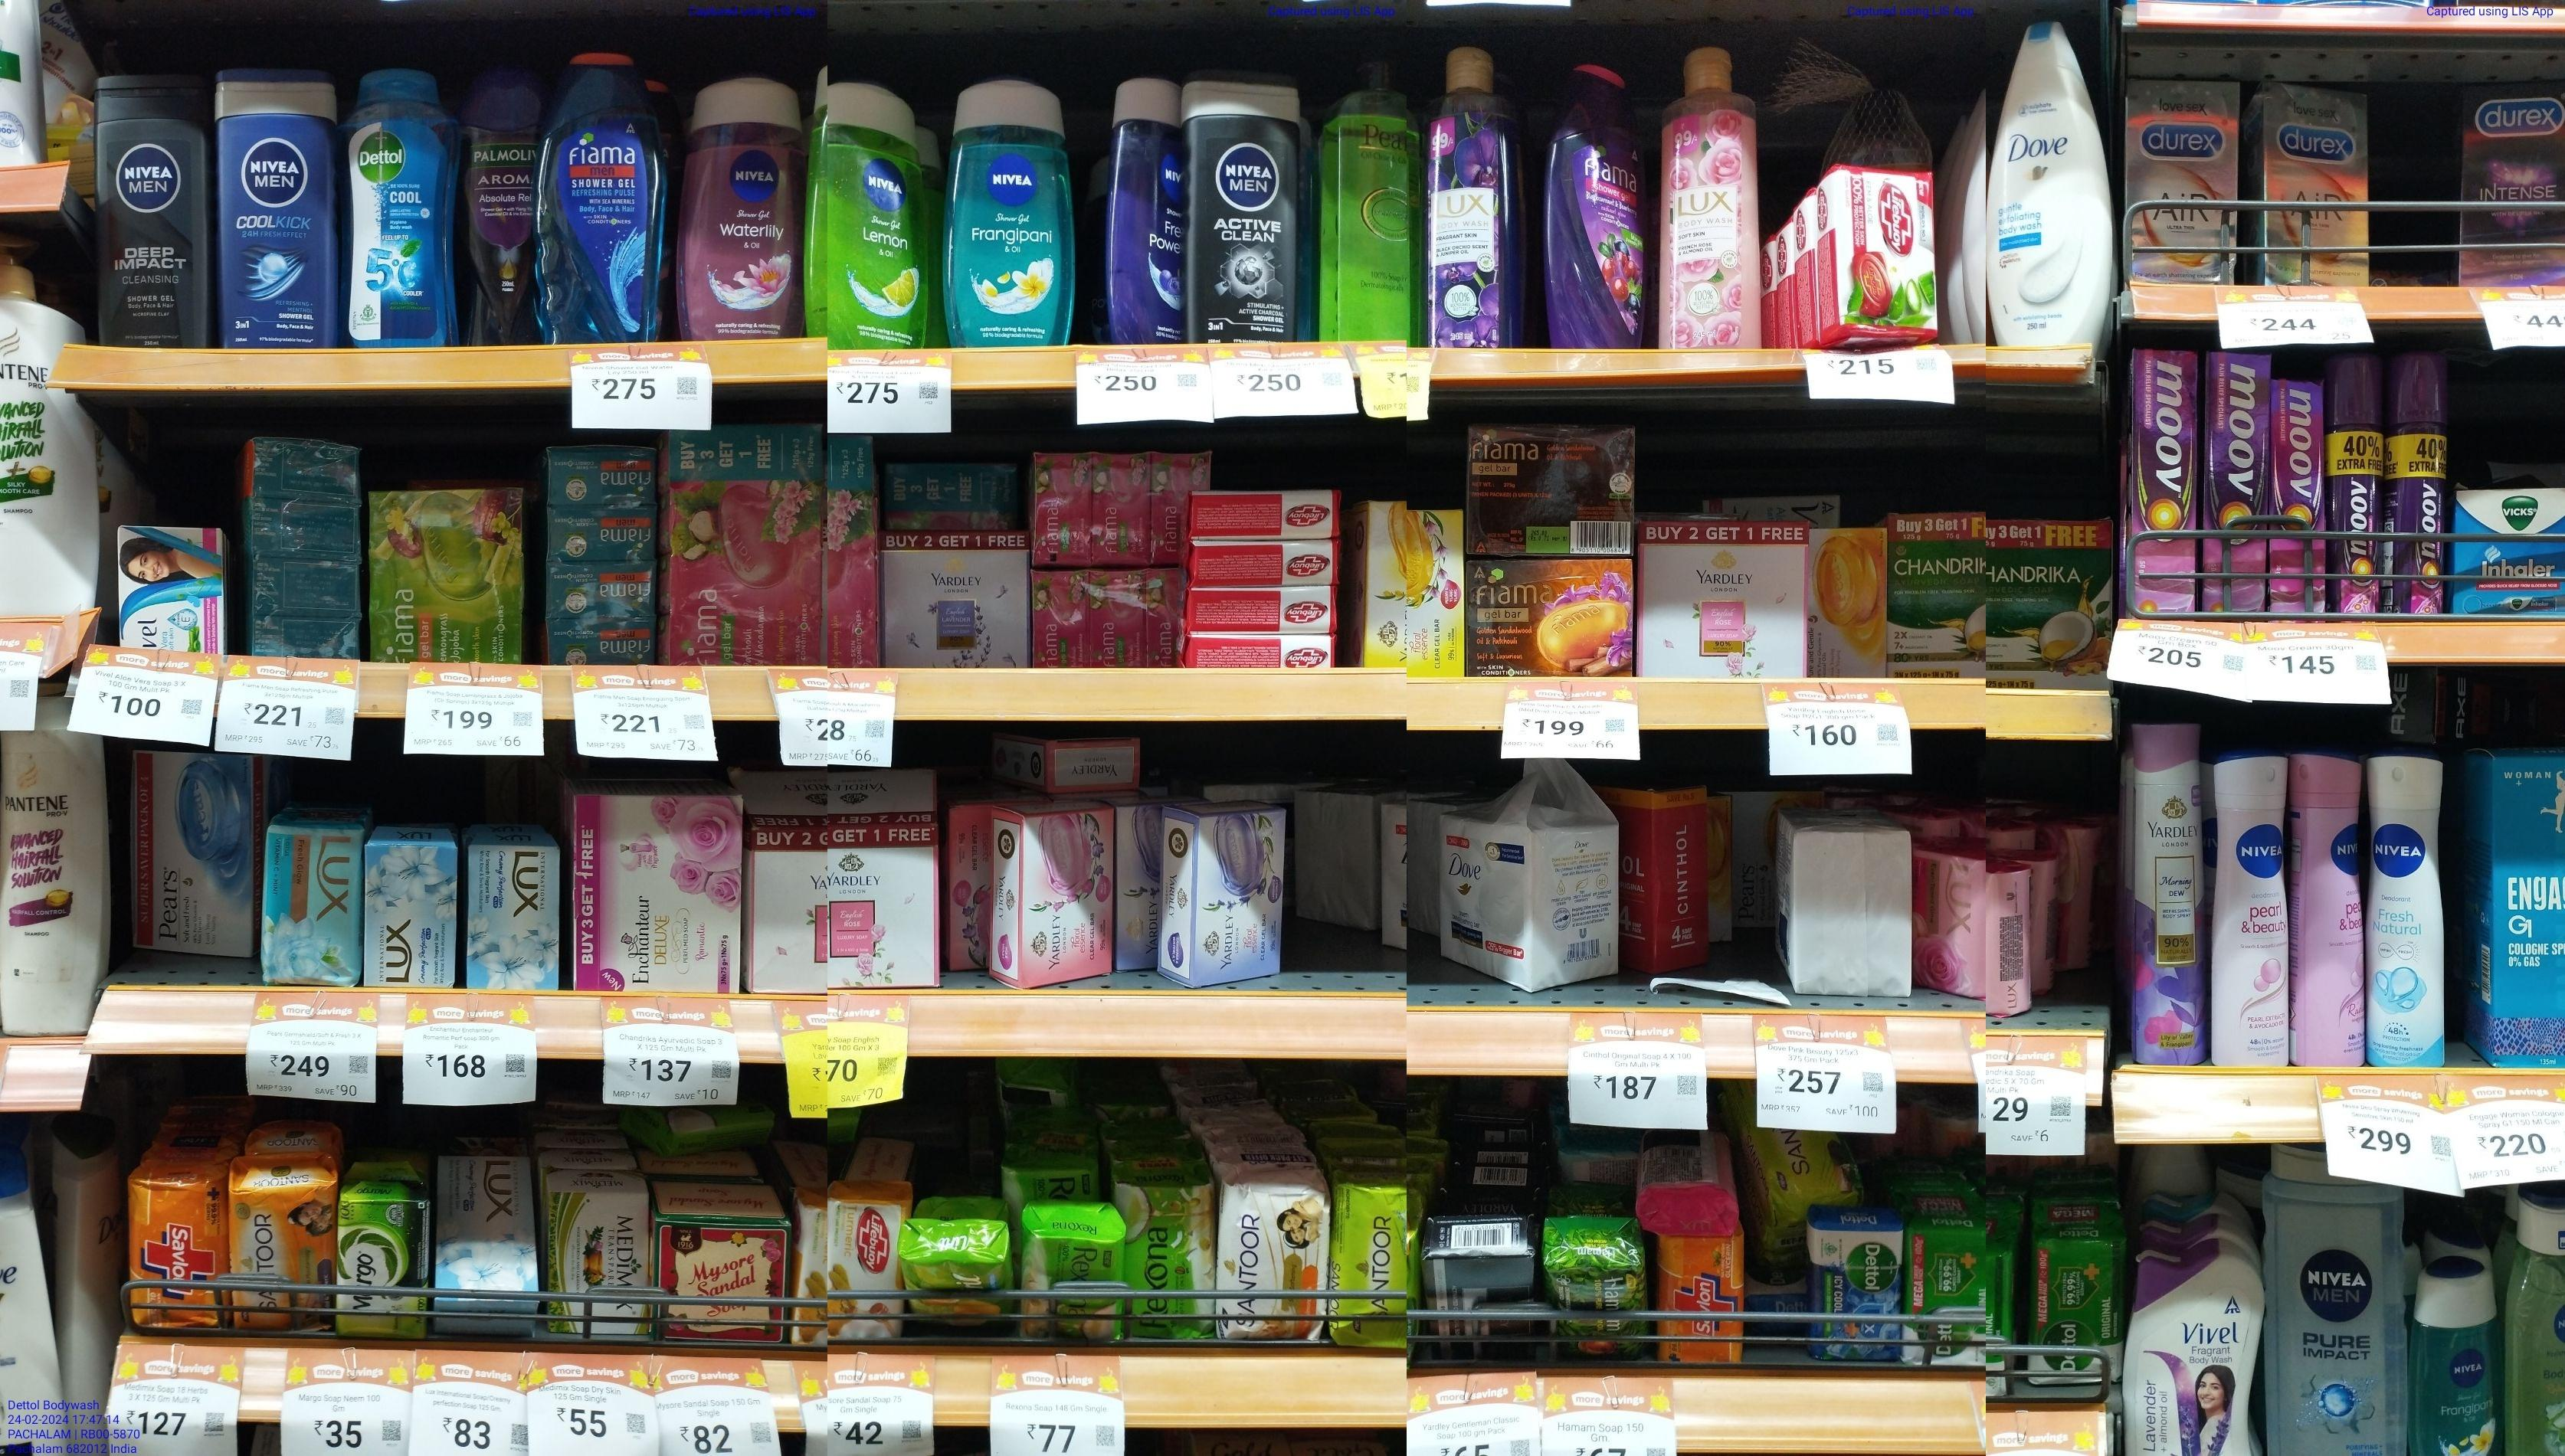Dettol_Bodywash_Cool: (349, 67, 463, 347)
Lux_Black_Orchid_Scent_and_Juniper_Oil_Body_Wash_245ML: (1423, 49, 1515, 345)
Nivea_Shower_Gel_Frangipani_and_Oil_250ML: (953, 81, 1075, 338)
Nivea_Shower_Gel_Lemon_and_Oil_250ML: (824, 79, 935, 340)
Nivea_Shower_Gel_Waterlily_and_Oil_250ML: (680, 81, 803, 336)
Pears_Pure_Glycerin_and_Lemon_Flower_Extracts_Body_Wash_250ML: (1327, 58, 1413, 345)
